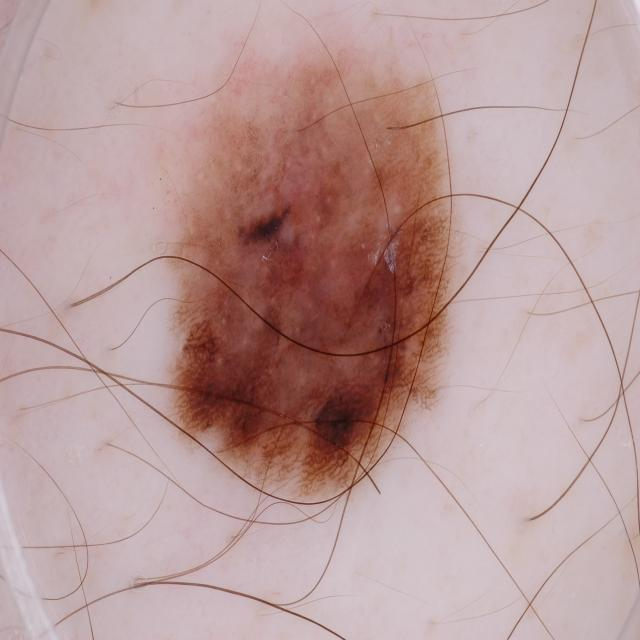Skin-Cancer Melanoma: (6, 6, 617, 582)
